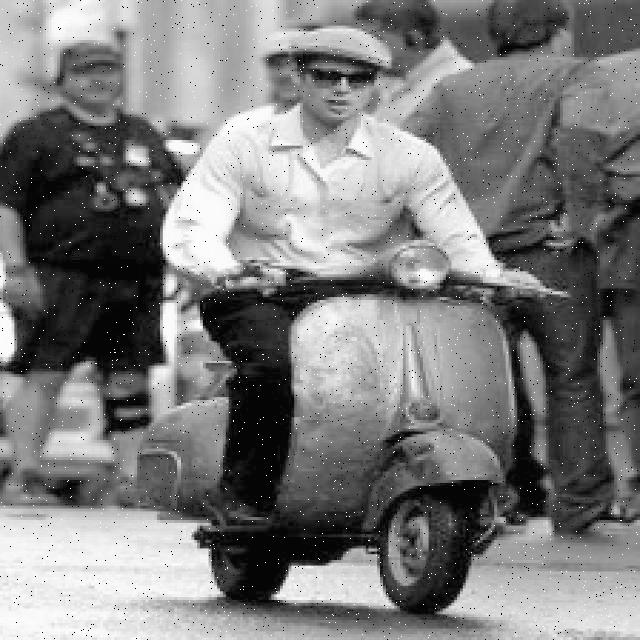Bike: (152, 266, 524, 614)
